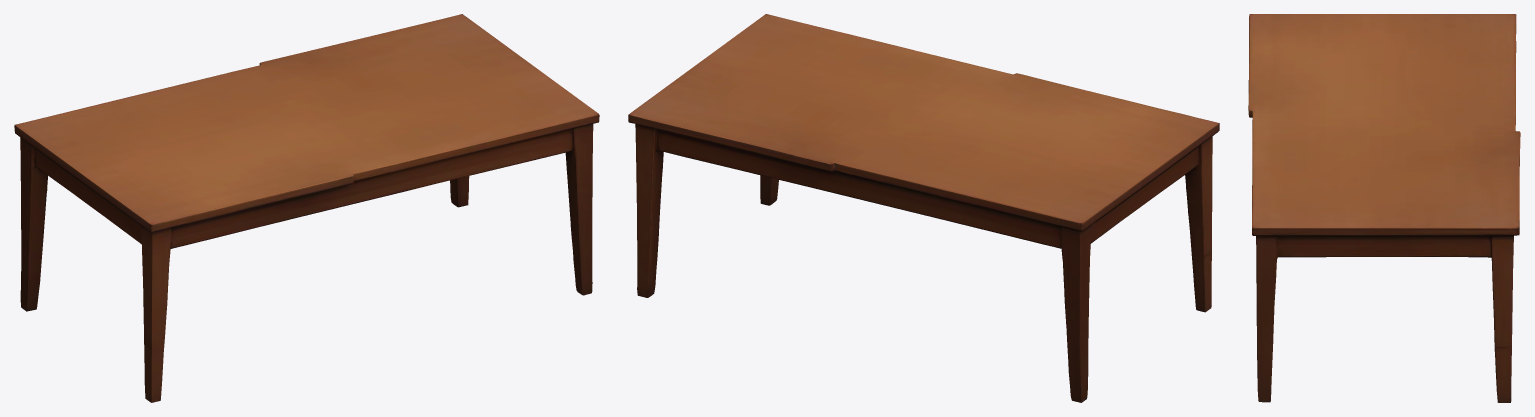
The picture shows the model from 3 angles, left to right: view 1: azimuth 30°, elevation 25°; view 2: azimuth 150°, elevation 25°; view 3: azimuth 270°, elevation 25°; orthographic projection. The views are drawn at different scales.
Visible parts, largest first — view 1: geometry_0; view 2: geometry_0; view 3: geometry_0.
Part boxes in pixels (bbox=[...]): geometry_0: bbox=[14, 14, 599, 402]; geometry_0: bbox=[628, 14, 1219, 402]; geometry_0: bbox=[1248, 14, 1520, 402].
Size of the model in its own units: 1 by 0.3872 by 0.537.
Materials: 1 (1 with a texture image).
